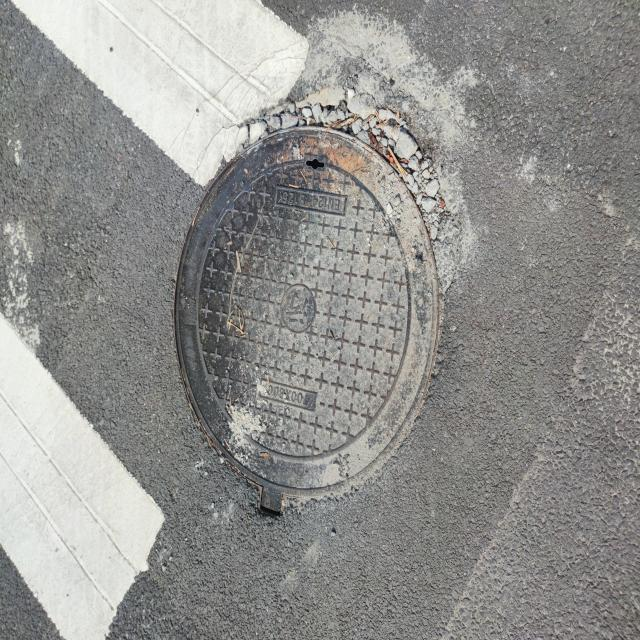Good: (168, 91, 450, 528)
